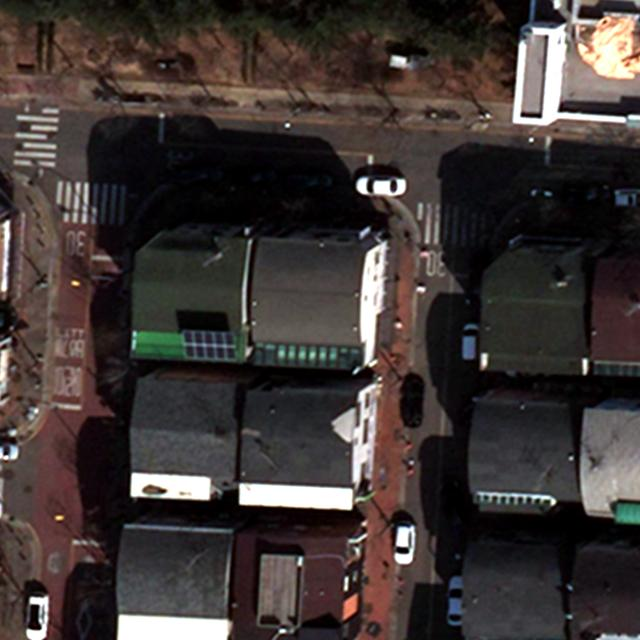solarpanel: (180, 329, 238, 360)
